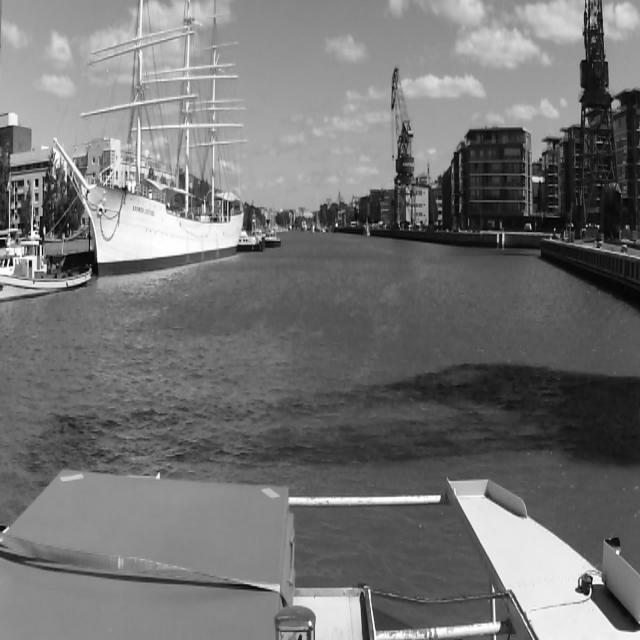ship: (92, 0, 244, 278), (1, 236, 92, 303), (244, 230, 263, 252), (264, 228, 282, 248)
